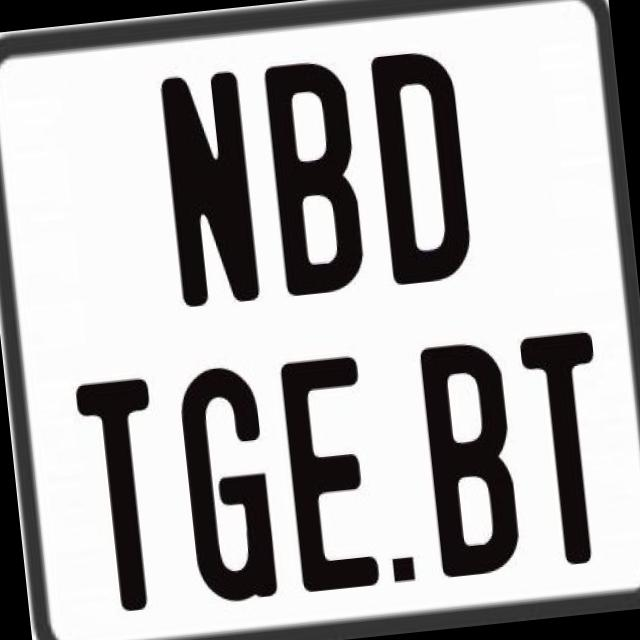B: (260, 56, 370, 300), (415, 340, 523, 586)
D: (368, 46, 479, 288)
E: (276, 350, 379, 589)
G: (177, 362, 286, 608)
N: (154, 65, 260, 312)
T: (516, 328, 618, 572), (72, 372, 170, 613)
